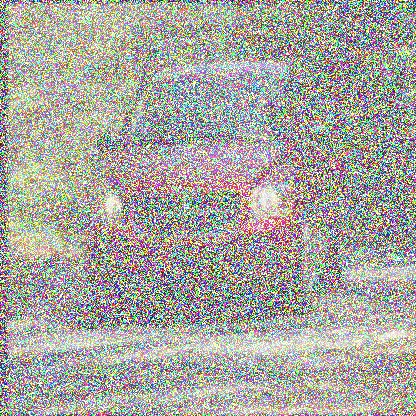Vehicle: (87, 64, 349, 313)
